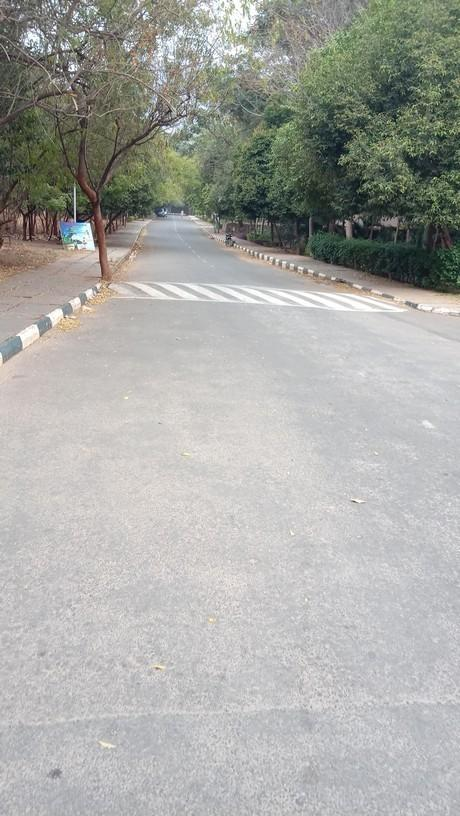speed-bump: (108, 279, 407, 309)
